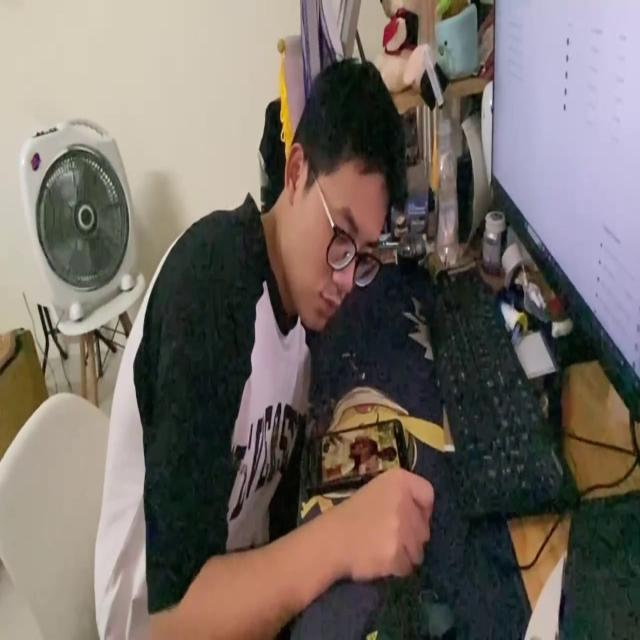laptop: (489, 0, 640, 424)
phone: (302, 416, 412, 492)
student: (89, 49, 436, 640)
